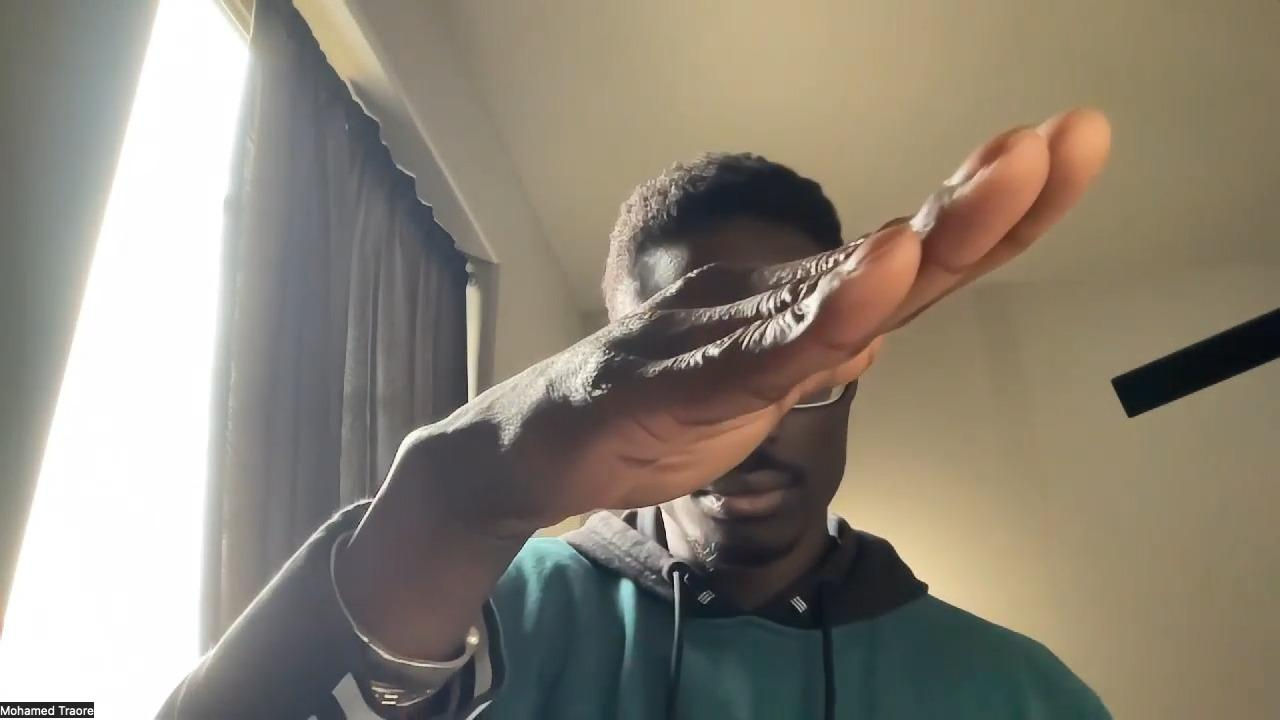Paper: (417, 102, 1112, 524)
